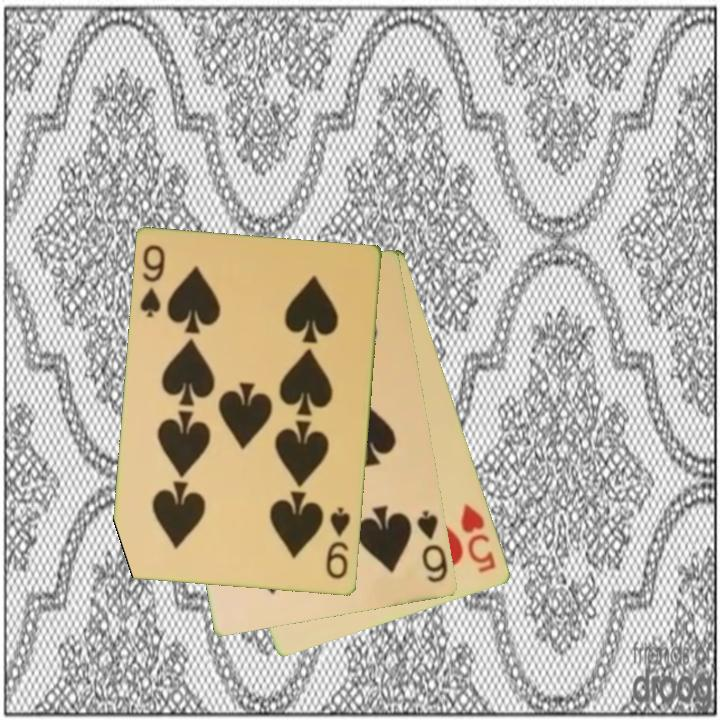5h: (457, 500, 499, 576)
6s: (413, 507, 451, 586)
9s: (137, 242, 169, 321), (323, 504, 354, 582)
